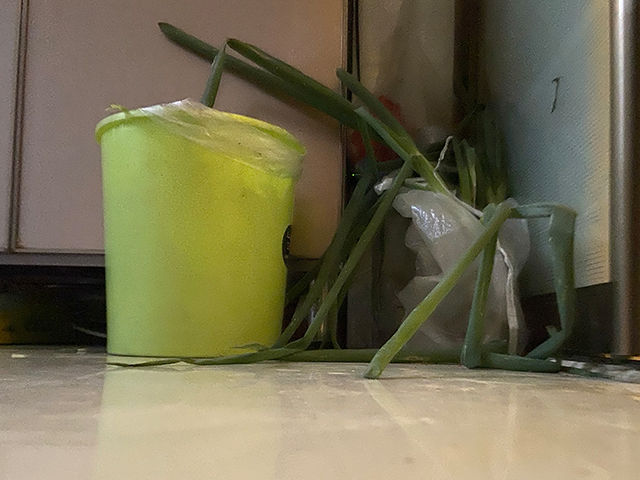cabinet: (1, 1, 355, 360)
trashcan: (92, 100, 306, 360)
